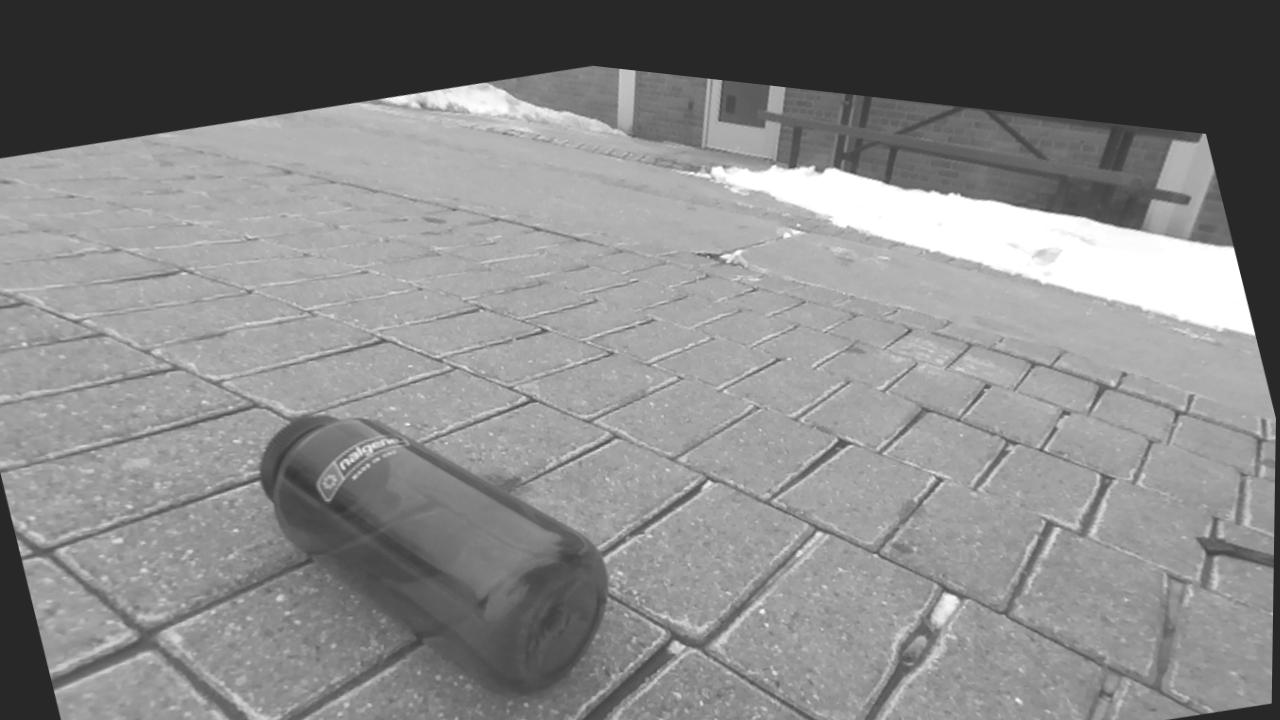bottle: (259, 415, 608, 694)
